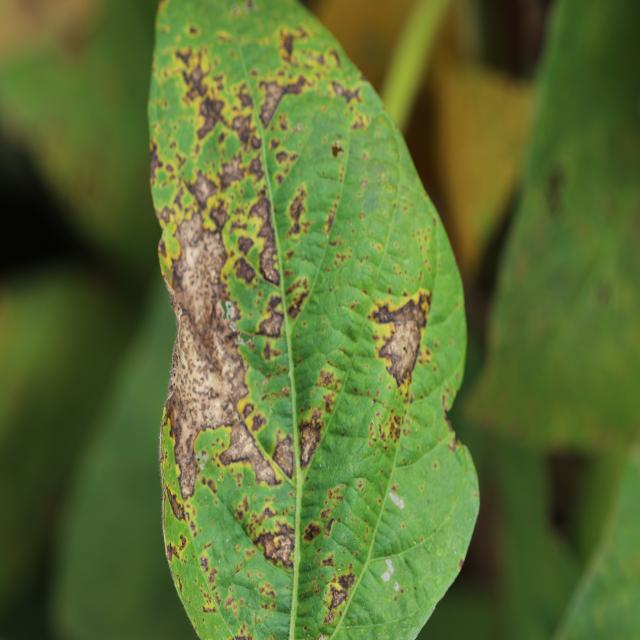Bacterial_Blight: (170, 212, 227, 342), (373, 295, 428, 388), (151, 165, 201, 242), (245, 193, 282, 286), (179, 377, 235, 438), (169, 399, 202, 493), (209, 322, 250, 395), (165, 104, 203, 166), (180, 57, 217, 112), (193, 425, 234, 472), (369, 404, 404, 457), (196, 93, 229, 142), (257, 80, 290, 129), (399, 218, 432, 264), (217, 150, 252, 192), (282, 186, 308, 237), (297, 418, 322, 468), (258, 295, 286, 339), (271, 432, 297, 477), (214, 128, 243, 167), (192, 169, 220, 209), (285, 277, 310, 313), (331, 79, 362, 107), (326, 580, 352, 612), (164, 485, 186, 522), (149, 143, 165, 187), (234, 255, 257, 285), (168, 342, 182, 388), (210, 201, 228, 229), (262, 339, 283, 362), (280, 31, 296, 61), (175, 46, 195, 69), (417, 290, 433, 316), (303, 521, 322, 542), (319, 369, 338, 389), (237, 234, 254, 256), (165, 540, 181, 563), (249, 411, 266, 432), (233, 622, 254, 639), (158, 205, 176, 223), (201, 475, 217, 495), (323, 517, 337, 537), (190, 66, 204, 85), (330, 141, 345, 158), (444, 414, 453, 434), (321, 553, 334, 566), (161, 406, 169, 427), (448, 438, 459, 453), (178, 533, 187, 551), (324, 396, 334, 412), (250, 135, 260, 150), (202, 604, 217, 613), (176, 575, 183, 592), (200, 556, 209, 569), (272, 535, 281, 548), (246, 0, 255, 11), (189, 26, 198, 36), (458, 558, 465, 570), (360, 179, 367, 188), (359, 211, 366, 219), (303, 625, 308, 632), (273, 205, 277, 213), (413, 585, 417, 591), (188, 599, 192, 605)
Soybean: (149, 1, 478, 640)
